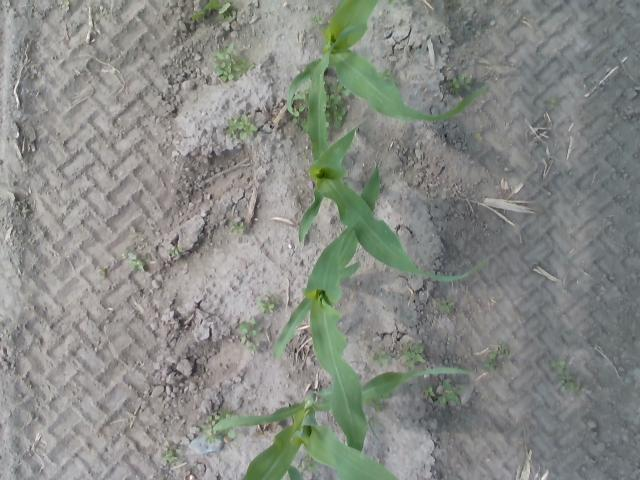Maize: (298, 50, 492, 282), (274, 164, 381, 452), (211, 366, 473, 480), (286, 0, 488, 122)
Weeds: (192, 0, 230, 18), (237, 114, 257, 140), (214, 44, 236, 67), (404, 344, 426, 366), (238, 316, 262, 336), (438, 380, 459, 402), (490, 341, 510, 363), (232, 58, 254, 76), (452, 74, 472, 91), (218, 66, 235, 83), (372, 350, 390, 366), (330, 83, 342, 105), (259, 300, 275, 314), (556, 370, 574, 382), (130, 226, 145, 240), (224, 119, 238, 134), (441, 298, 454, 312), (565, 382, 580, 394), (168, 244, 180, 258), (230, 222, 244, 234), (121, 251, 137, 261), (332, 110, 348, 120), (550, 360, 564, 371), (424, 387, 436, 399), (131, 259, 144, 269), (376, 400, 386, 412), (484, 361, 496, 371), (548, 98, 560, 108), (208, 414, 220, 424), (165, 451, 178, 460), (379, 68, 392, 77), (250, 342, 260, 353), (61, 2, 71, 12), (314, 15, 322, 26), (228, 429, 236, 439), (206, 436, 217, 442), (144, 253, 152, 260), (136, 244, 144, 250), (98, 268, 105, 274), (475, 134, 482, 139), (242, 336, 246, 344), (100, 6, 104, 14), (231, 60, 237, 65)
